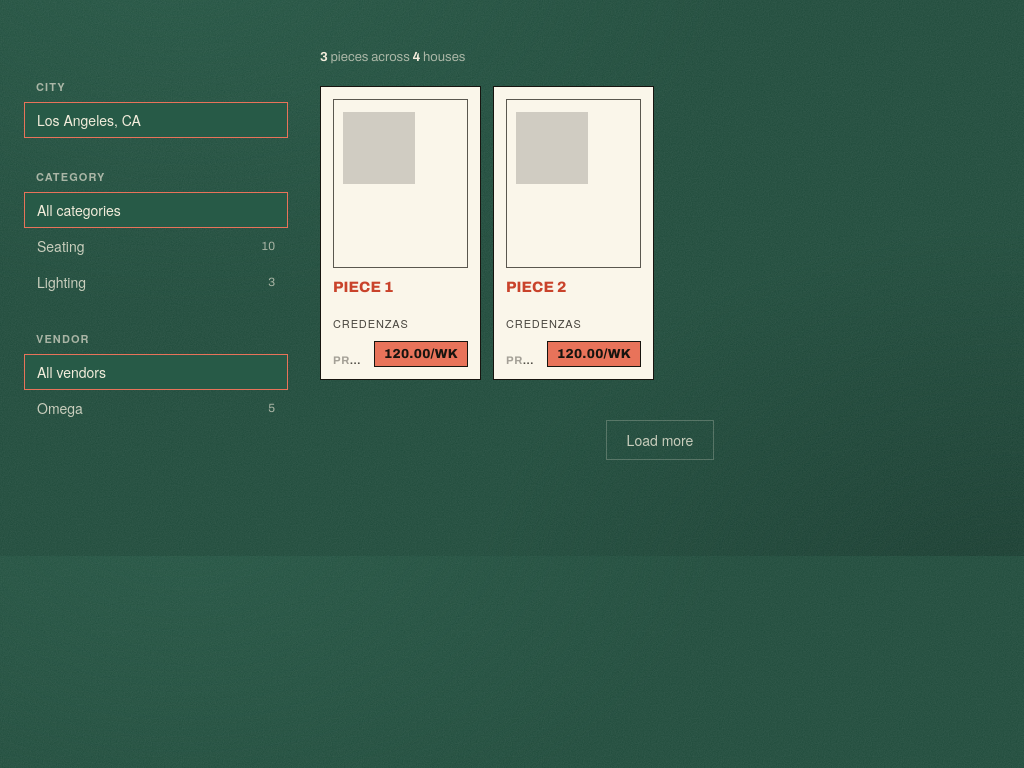
Test: BrowseGrid › toggles a filter off when clicked again
Click the button "Seating 10" at point(61, 246), box x1=24 y1=228 x2=288 y2=264
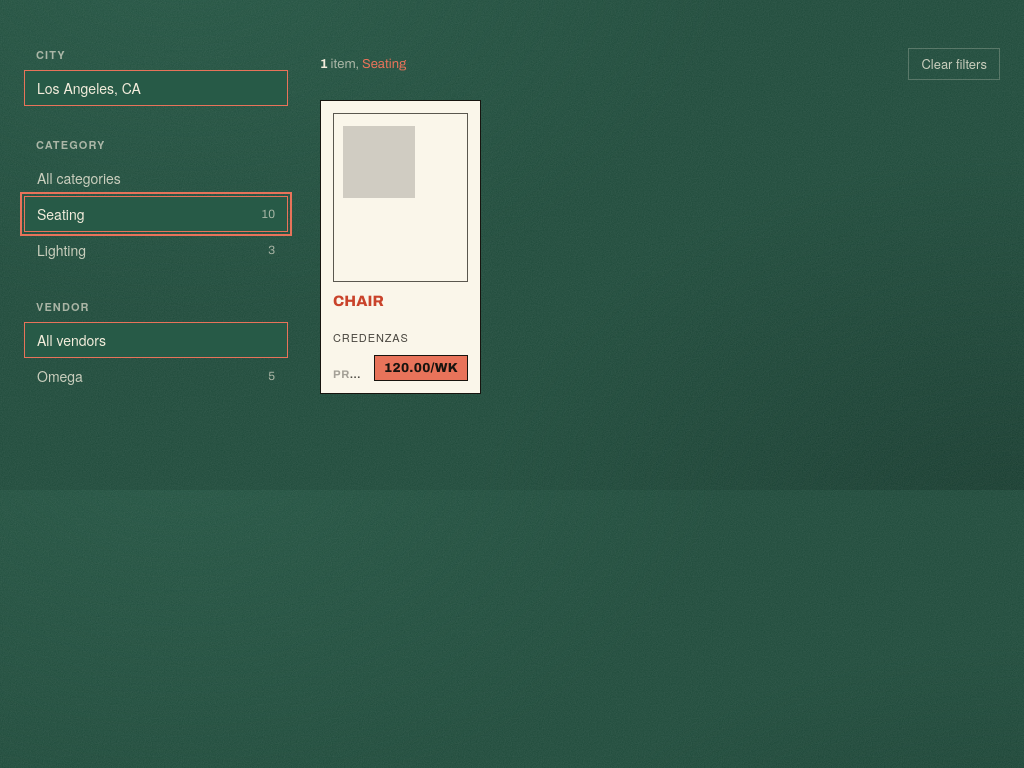
Check: the link "Chair credenzas Prop house withheld 120.00/WK" is shown, box x1=320 y1=100 x2=481 y2=394
Click the button "Seating 10" at point(61, 214), box x1=24 y1=196 x2=288 y2=232
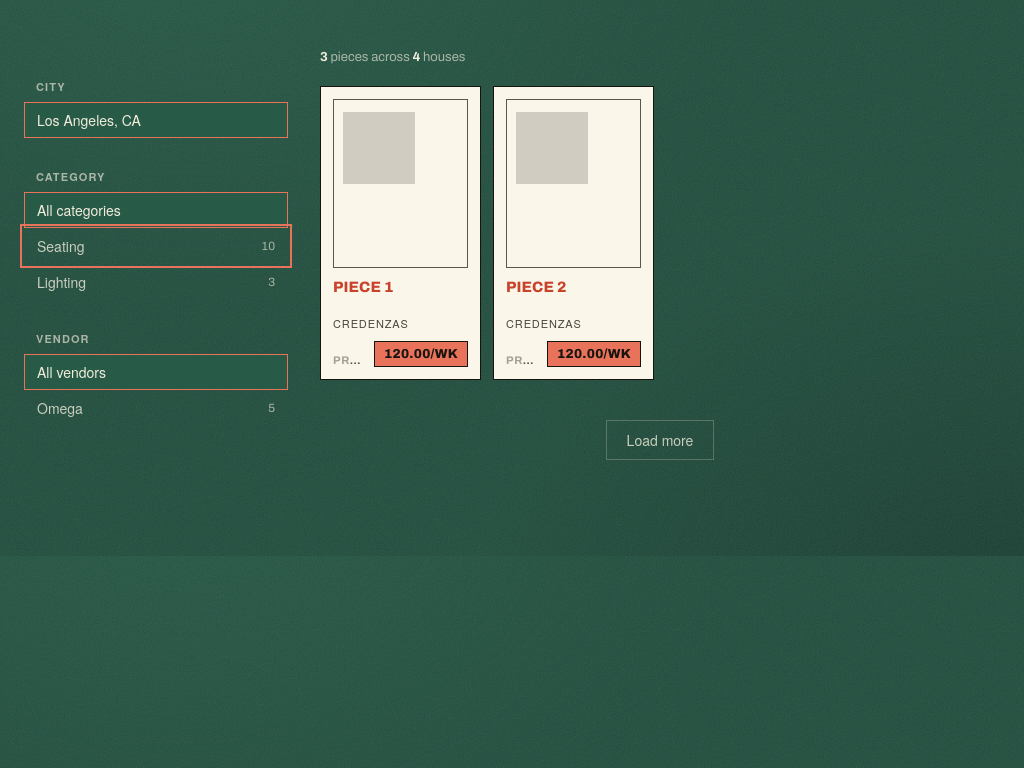
Check: the link "Piece 1 credenzas Prop house withheld 120.00/WK" is shown, box x1=320 y1=86 x2=481 y2=380
